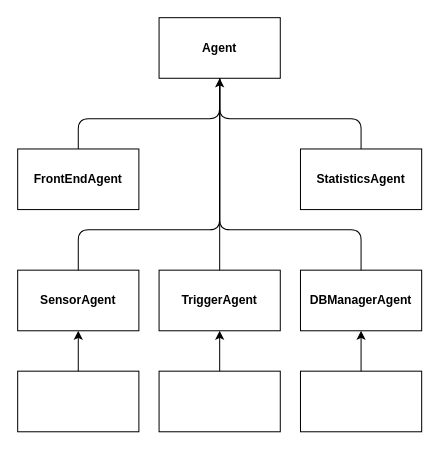
This 439x449 diagram has some shape labels left out. Here are the shapes that lost their labels. From the top down, the centre of each, then its label:
(78,401): FFDSensorAgent
(219,401): FFDTriggerAgent
(360,401): FFDDBManager Agent
